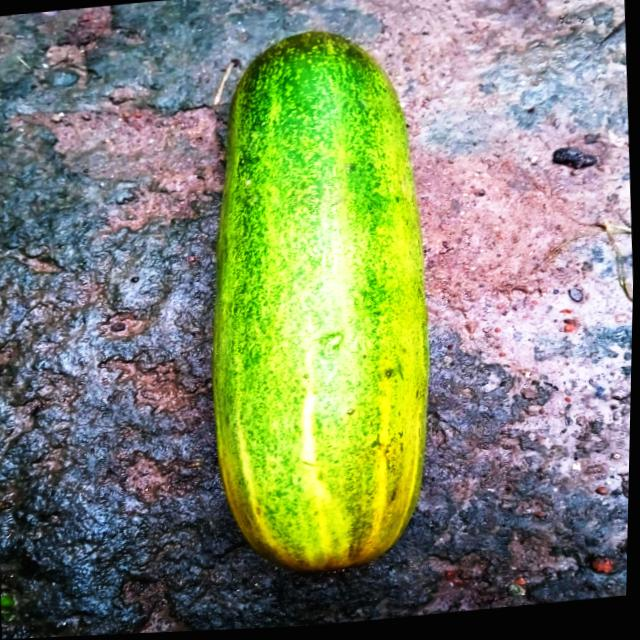Fresh-Cucumber: (190, 18, 453, 590)
